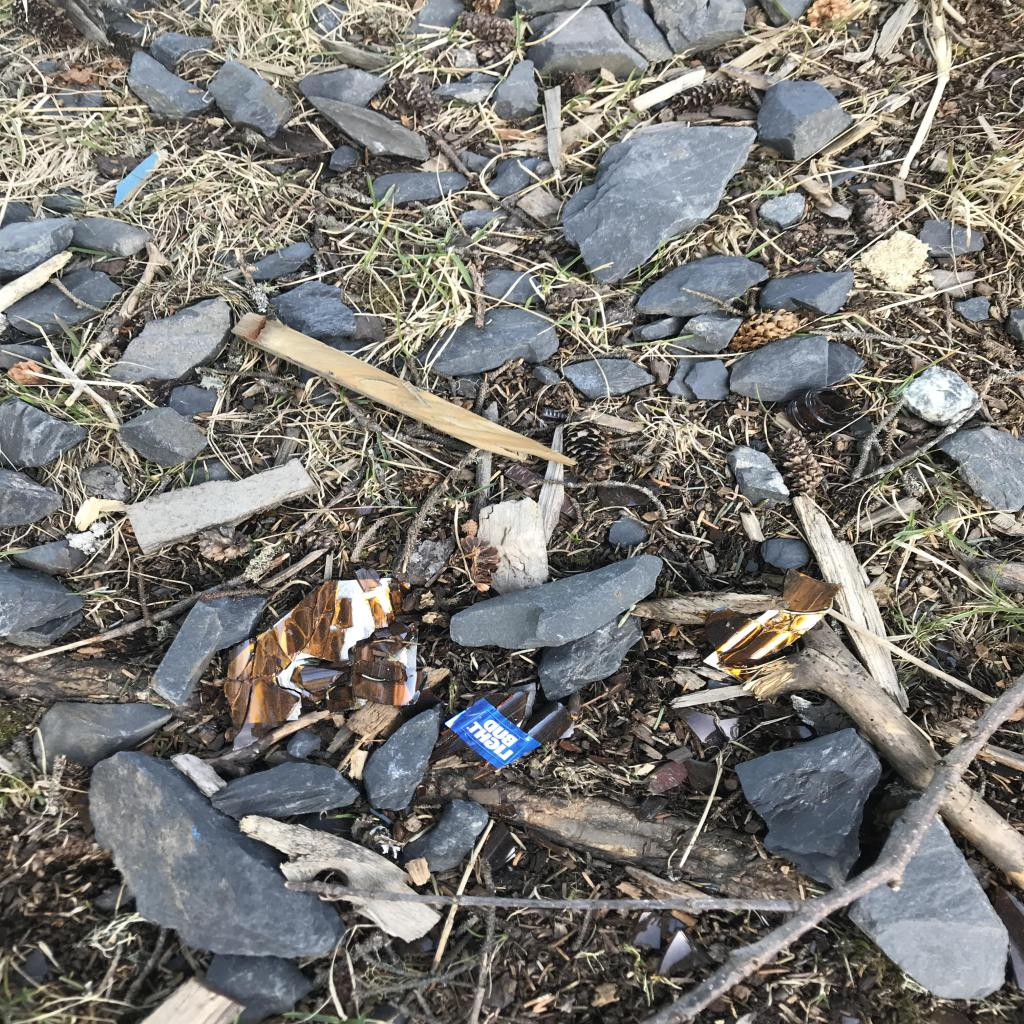Broken glass: (428, 607, 800, 870), (284, 580, 352, 661), (353, 622, 411, 706), (234, 676, 298, 752), (786, 388, 858, 434), (655, 930, 714, 976), (669, 707, 726, 752), (782, 568, 840, 612), (290, 662, 352, 692), (225, 680, 252, 738), (258, 626, 292, 668), (226, 639, 256, 679), (252, 640, 284, 676), (632, 911, 662, 948), (718, 716, 746, 742), (326, 686, 354, 712), (766, 612, 804, 630), (408, 670, 428, 704), (356, 568, 382, 592), (369, 596, 388, 628), (664, 916, 688, 940), (390, 586, 408, 614), (768, 726, 812, 737), (388, 578, 410, 596), (300, 690, 324, 702), (240, 659, 252, 680)
